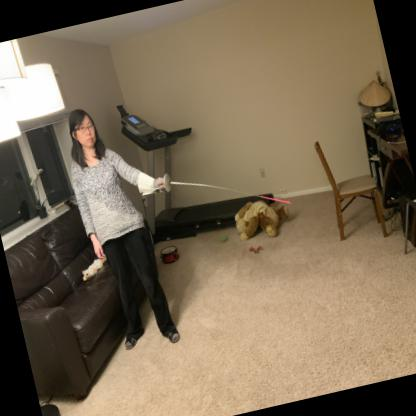foil-tip: (274, 197, 300, 213)
hand-and-foil: (134, 136, 303, 246)
